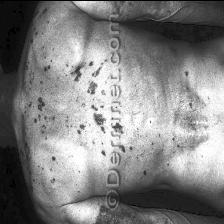Unclassified: (42, 16, 104, 178), (126, 36, 173, 174), (22, 62, 46, 166), (91, 211, 156, 224), (94, 0, 146, 6)
